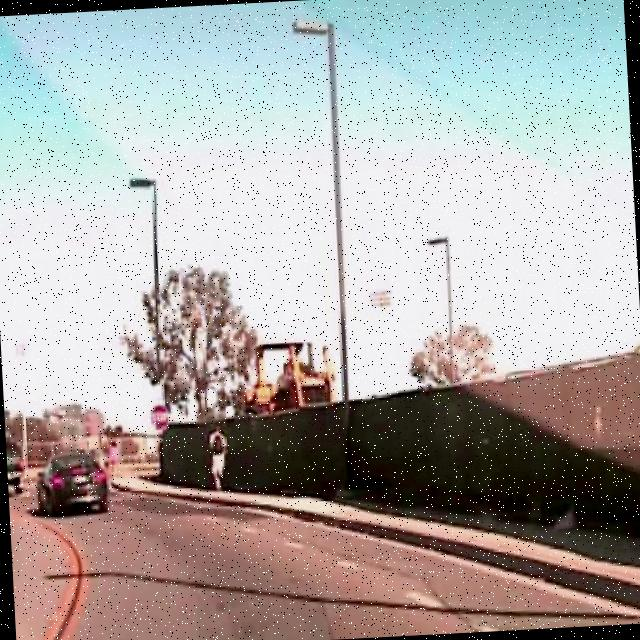Stop: (148, 404, 172, 433)
